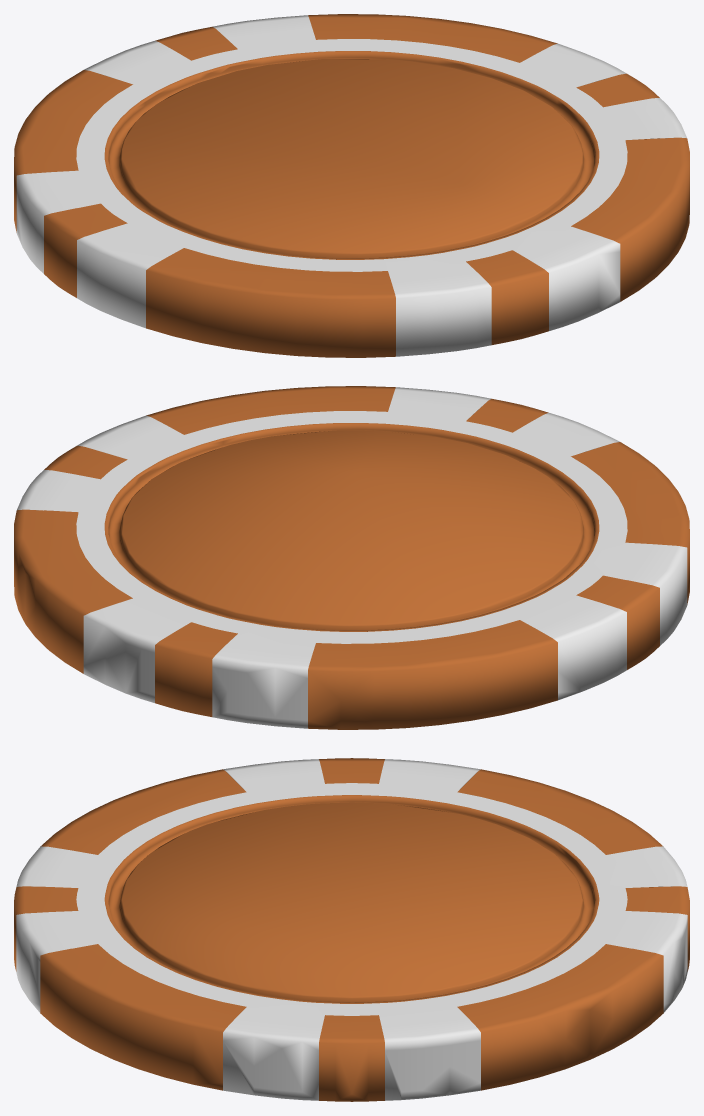
Rendered from token.glb.
The picture shows the model from 3 angles, top to bottom: view 1: azimuth 30°, elevation 25°; view 2: azimuth 150°, elevation 25°; view 3: azimuth 270°, elevation 25°; orthographic projection.
Visible parts, largest first — view 1: Chip_0, Chip_1; view 2: Chip_0, Chip_1; view 3: Chip_0, Chip_1.
Boxes of the visible parts, x1,y1,x2,y2 form: Chip_0: (14,14,689,357); Chip_1: (16,15,686,356); Chip_0: (14,386,689,729); Chip_1: (17,387,687,728); Chip_0: (14,758,689,1101); Chip_1: (16,759,687,1100).
Size of the model in its own units: 2 by 0.1988 by 2.
